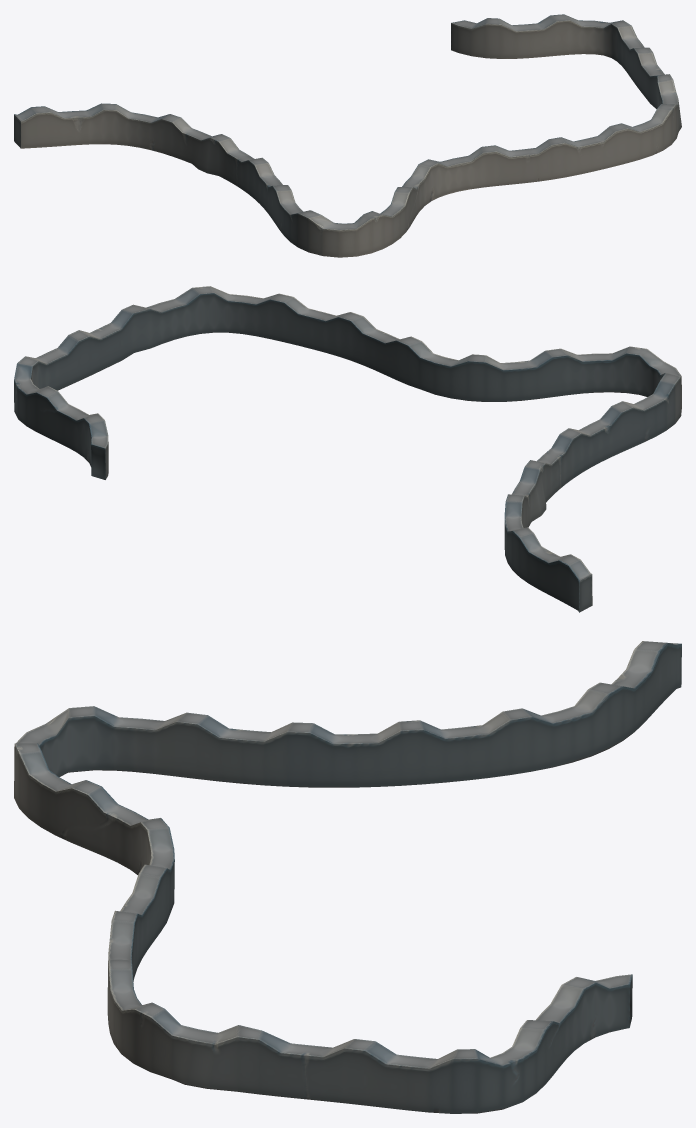
The model's file is Zone1_Path_Wall_Textured32.fbx.
The picture shows the model from 3 angles, top to bottom: view 1: azimuth 30°, elevation 25°; view 2: azimuth 150°, elevation 25°; view 3: azimuth 270°, elevation 25°; orthographic projection. The views are drawn at different scales.
Visible parts, largest first — view 1: Zone1_Small_Wall_LOW; view 2: Zone1_Small_Wall_LOW; view 3: Zone1_Small_Wall_LOW.
Boxes of the visible parts, x1,y1,x2,y2 form: Zone1_Small_Wall_LOW: [14, 14, 681, 257]; Zone1_Small_Wall_LOW: [14, 286, 681, 612]; Zone1_Small_Wall_LOW: [14, 641, 681, 1113].
Size of the model in its own units: 2534 by 169 by 1666.
1 material, 1 textured.
